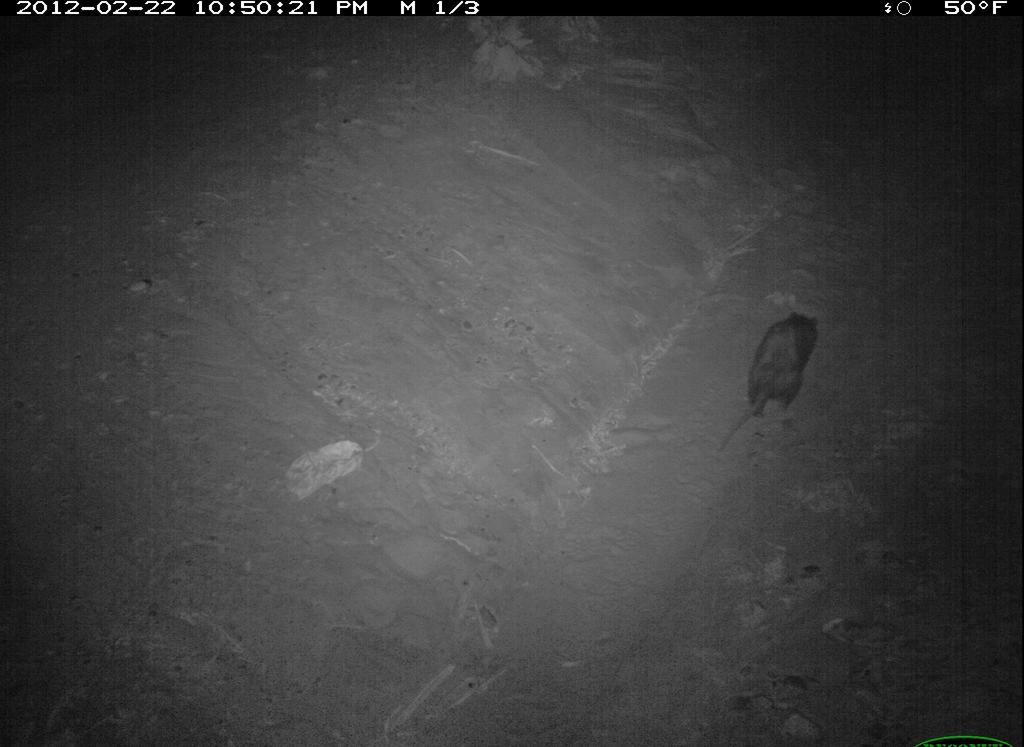opossum: (712, 305, 829, 455)
